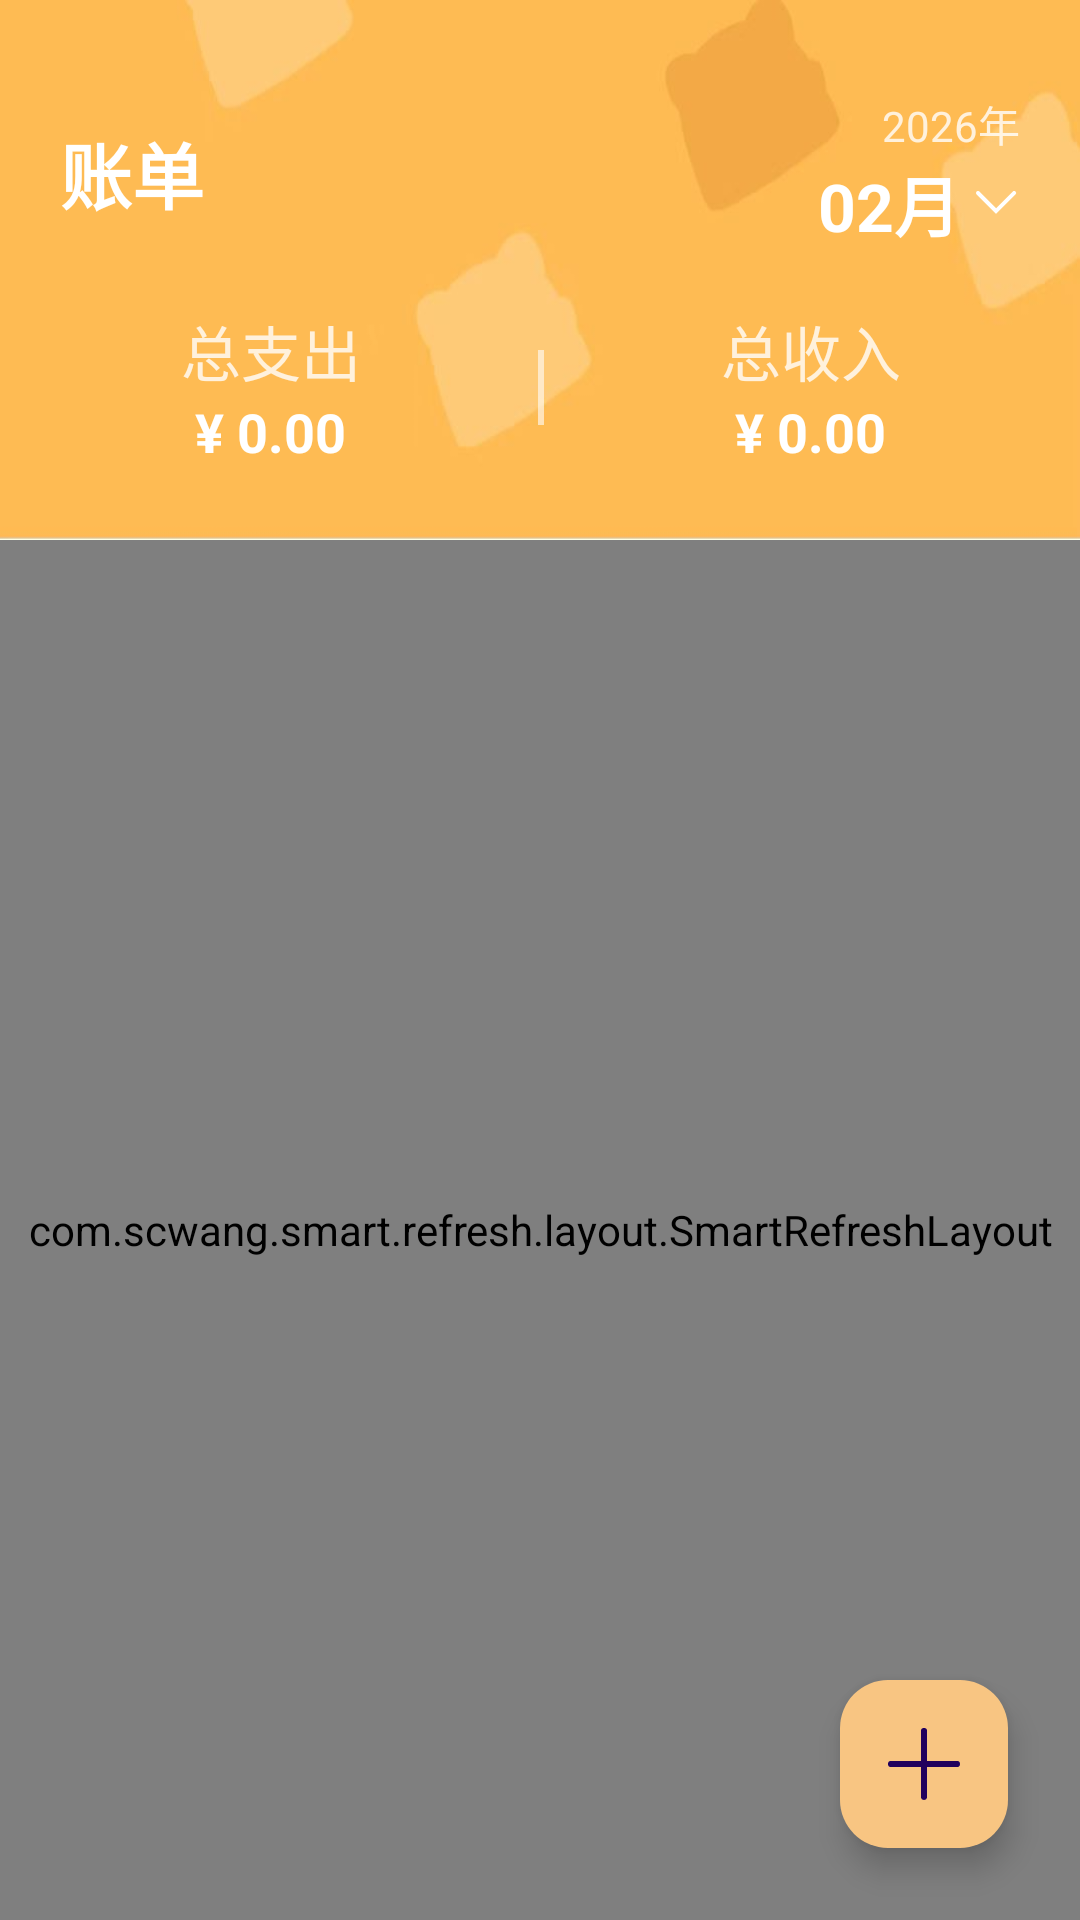

Icon bounding boxes for this 1080 × 1920 phone screenshot, format (x1, y1, x2, y2):
arrow bottom: (976, 191, 1016, 214)
新增账单: (840, 1680, 1008, 1848)
